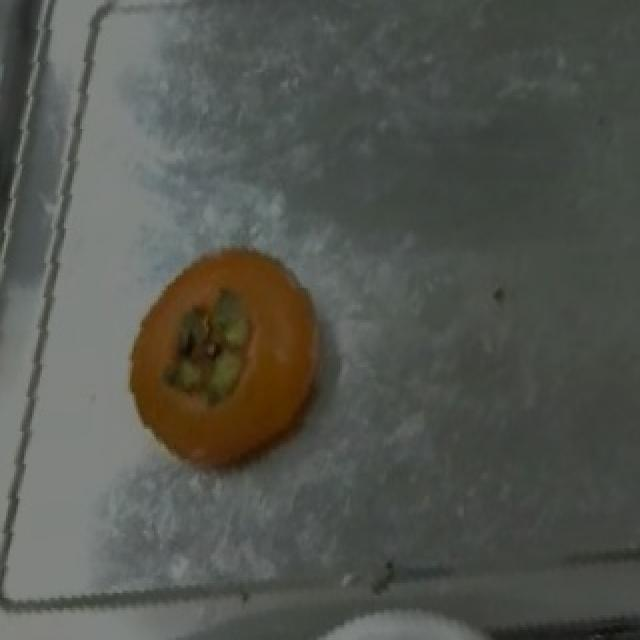Fruit: (104, 231, 342, 491), (314, 595, 536, 640)
